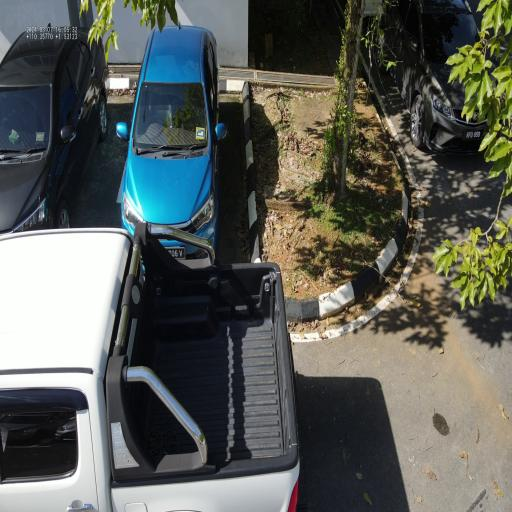Illegal: (0, 223, 304, 512)
Occupied: (95, 78, 257, 331)
